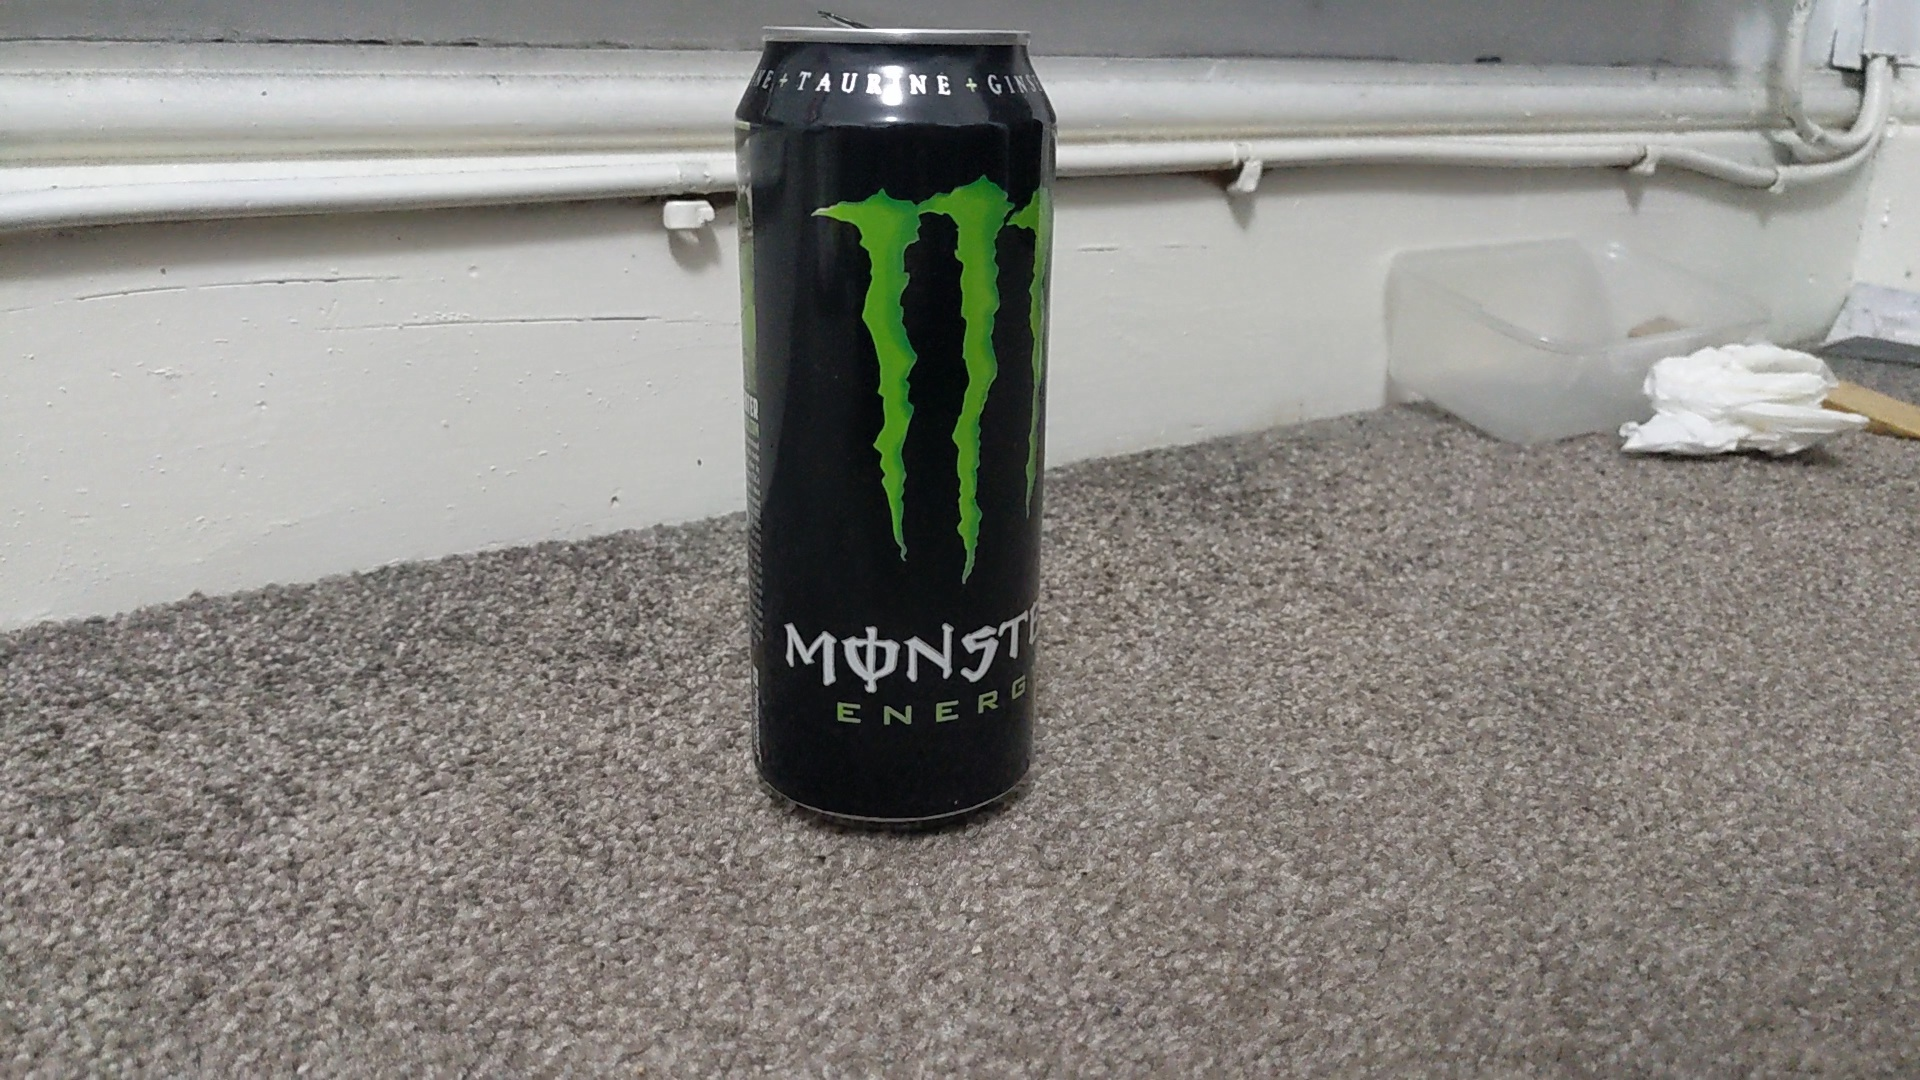monster-original: (727, 17, 1068, 840)
